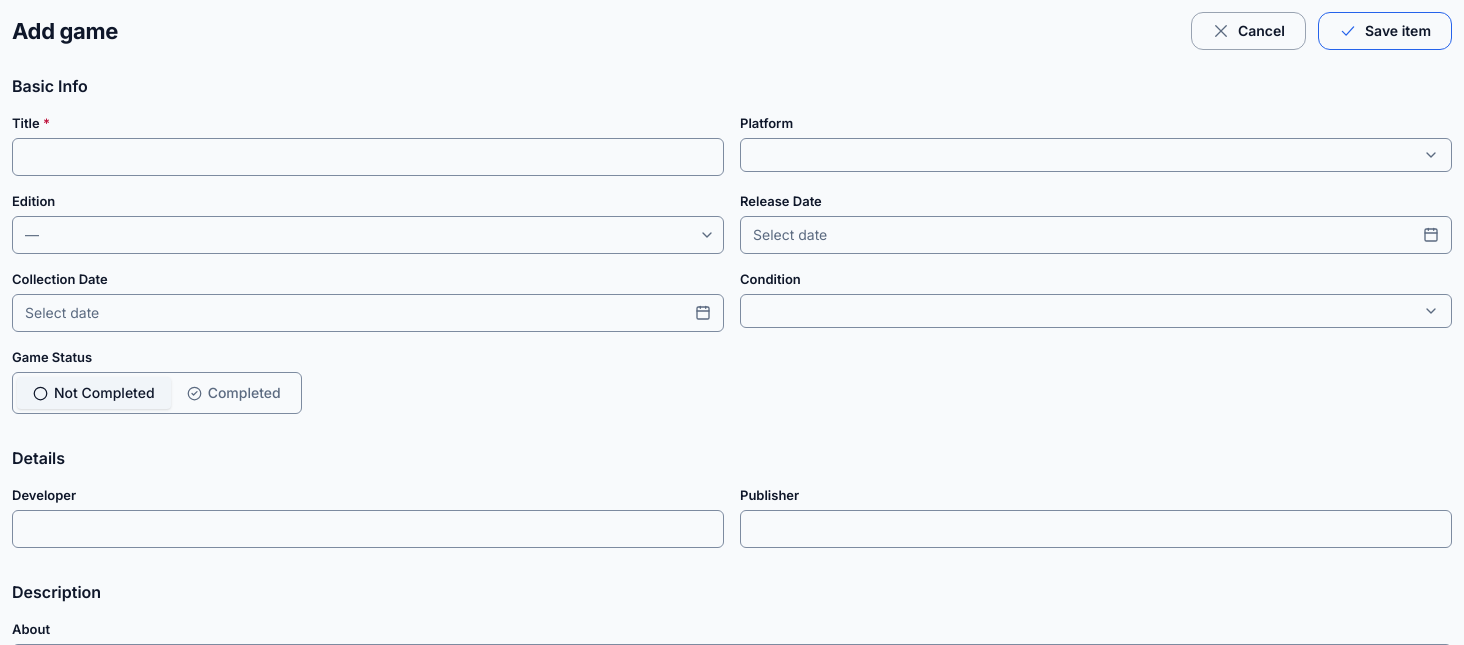
Test case: ItemForm › blocks submit and shows an error when the title is empty
The width and height of the screenshot is (1464, 645).
Click the button "Save item": (1385, 31) [1318,12,1452,50]
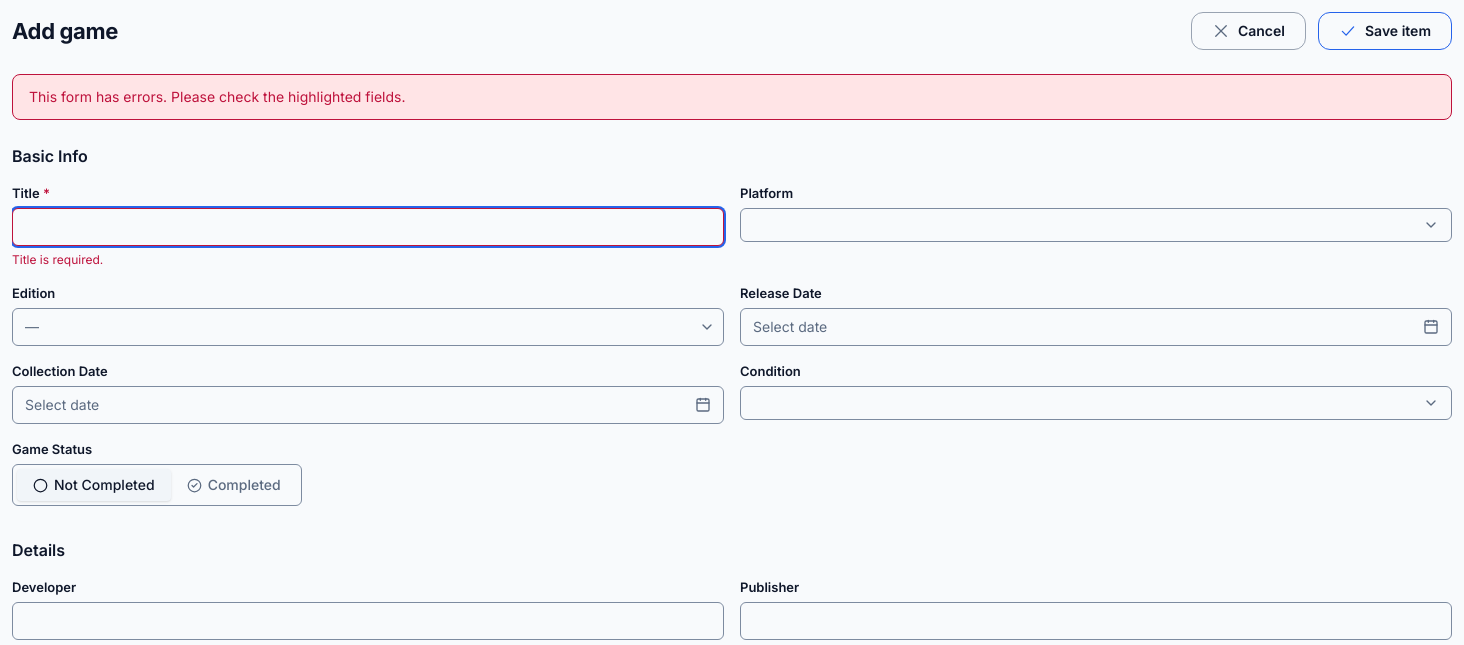
expect the text "Title is required." is shown: met, box [12,252,103,267]
